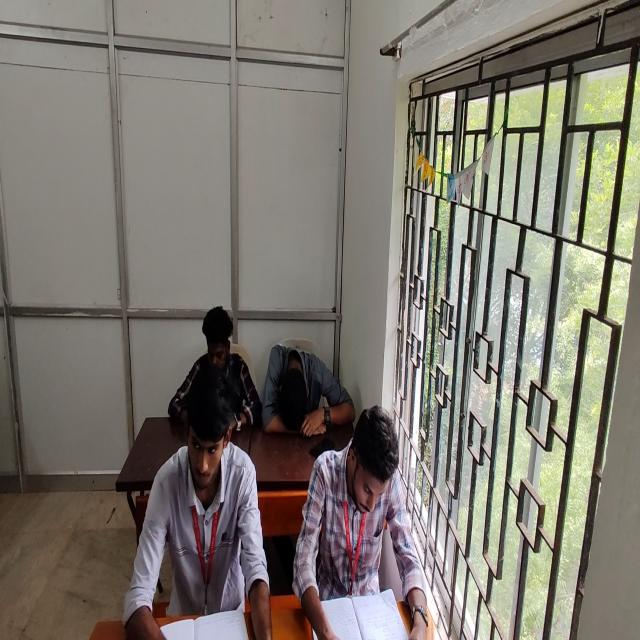listening: (123, 367, 270, 640)
reading: (290, 407, 411, 640)
sleeping: (263, 342, 354, 437)
using_mobile: (169, 304, 262, 430)
